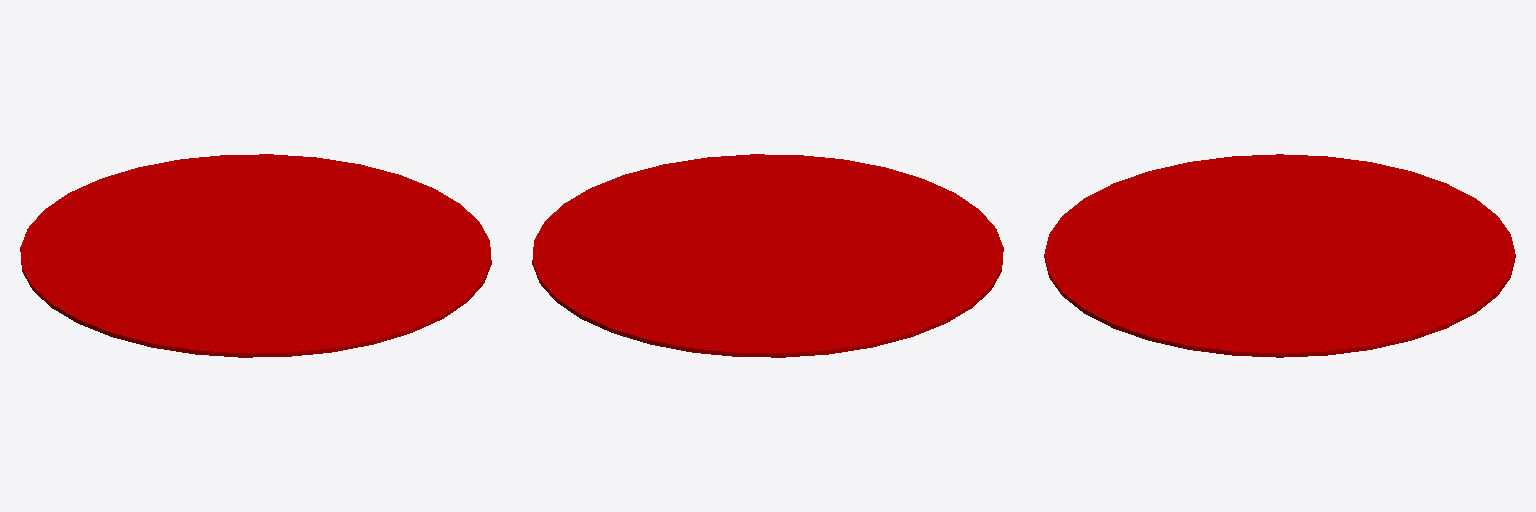
The robot description file, URDF, robot "flag":
<robot name = "flag">
  <material name="red">
    <color rgba="0.8 0 0 1"/>
  </material>  	
    <link name="marker1">
		<visual>
			<geometry>
				<cylinder length="0.01" radius="0.5"/>
			</geometry>
			<material name = "red"/>
		</visual>
		<inertial>
			<mass value = "0.0"/>
			<inertia
				ixx = "0"
				ixy = "0"
				ixz = "0"
				iyy = "0"
				iyz = "0"
				izz = "0"
			/>
		</inertial>
	</link>
</robot>    

--- What the picture shows (computed from the rendered views, not written in the file) ---
The picture shows the robot from 3 angles, left to right: view 1: azimuth 30°, elevation 25°; view 2: azimuth 150°, elevation 25°; view 3: azimuth 270°, elevation 25°; orthographic projection.
Model flag with 1 links and 0 joints (none), rooted at marker1, posed every joint at zero.
Links seen in each view (by area): view 1: marker1; view 2: marker1; view 3: marker1.
Boxes of the visible links, x1=… form: marker1: x1=20, y1=154, x2=491, y2=357; marker1: x1=532, y1=154, x2=1003, y2=357; marker1: x1=1044, y1=154, x2=1515, y2=357.
Bounding box of the posed robot: 1 × 1 × 0.01 m (x, y, z).
Geometry: primitives only (box / cylinder / sphere), no mesh files.